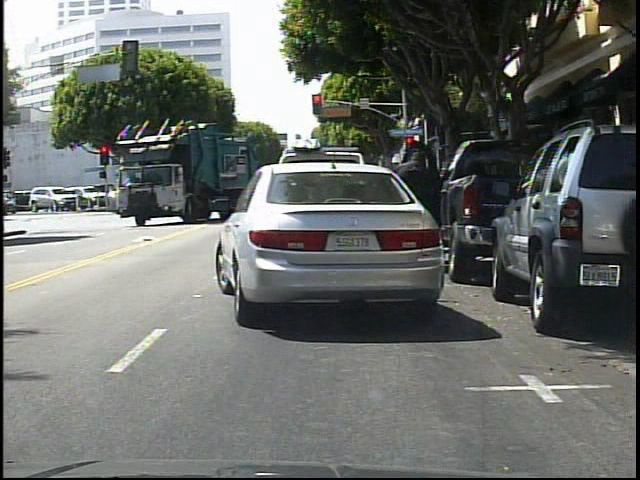person: (389, 144, 448, 280)
